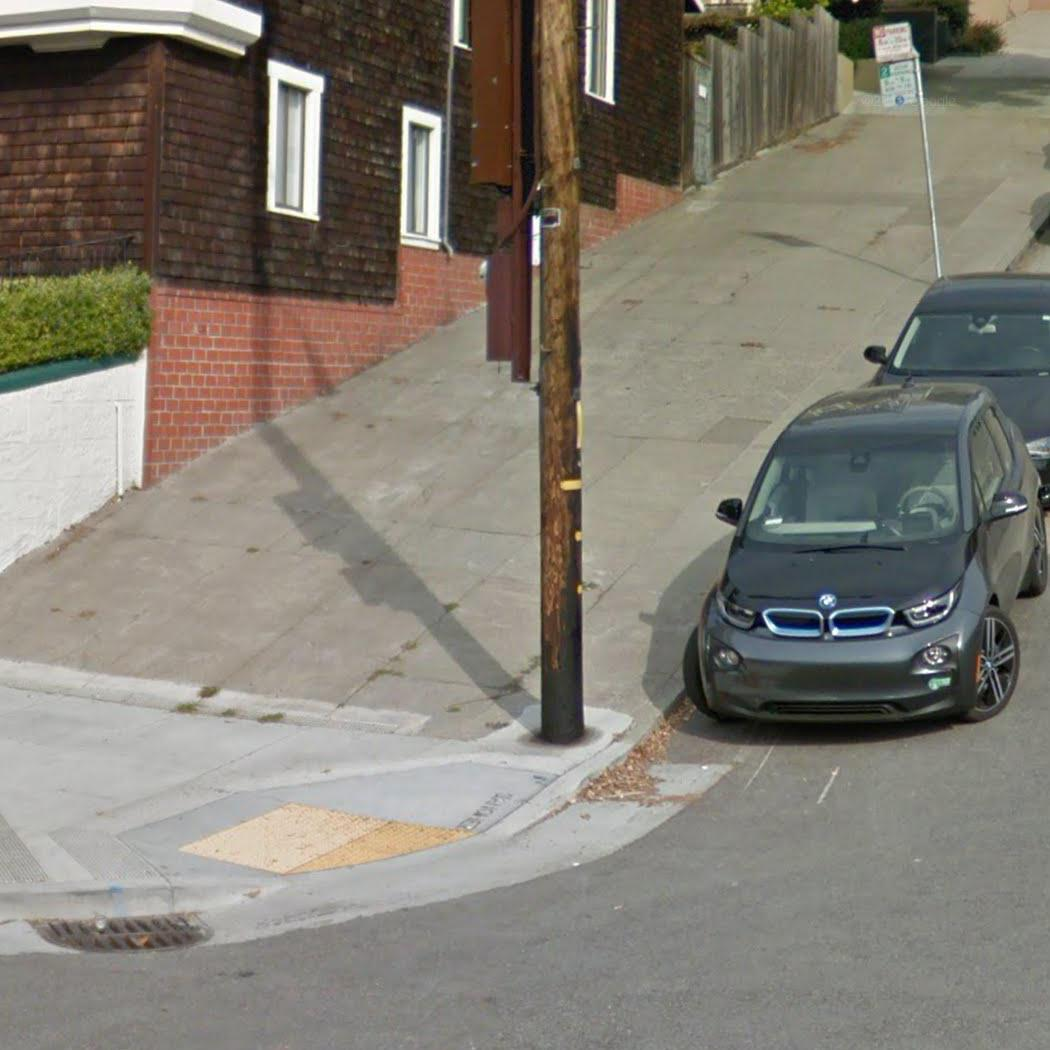2 Hour Parking: (876, 58, 920, 109)
No Parking: (870, 20, 915, 66)
